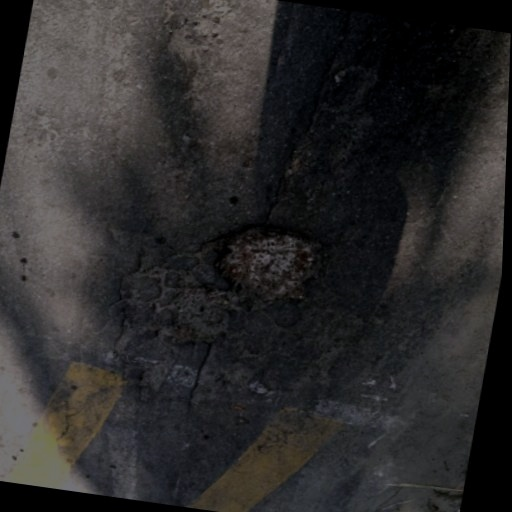pothole: (203, 216, 334, 314), (157, 282, 242, 354)
